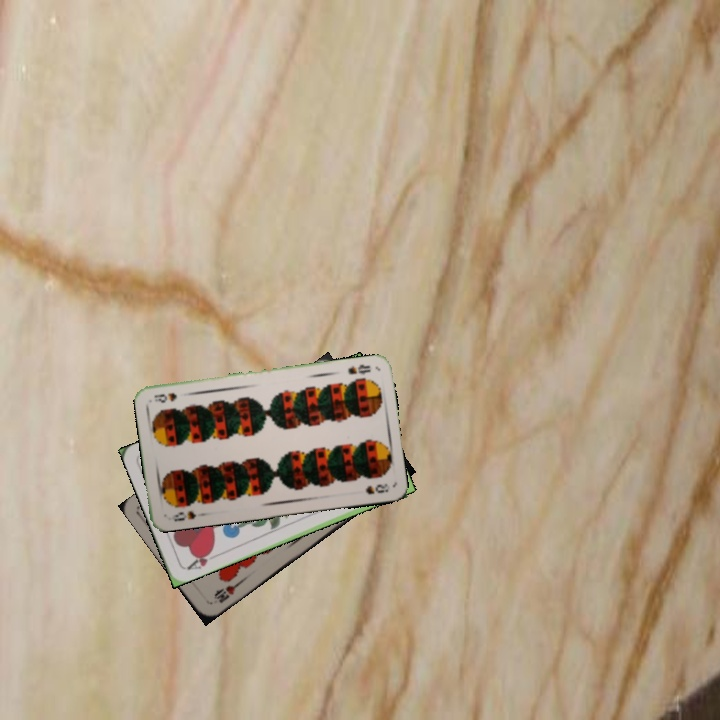H10: (210, 577, 243, 606)
HA: (183, 546, 215, 572)
S8: (164, 507, 205, 524), (344, 360, 373, 377)
